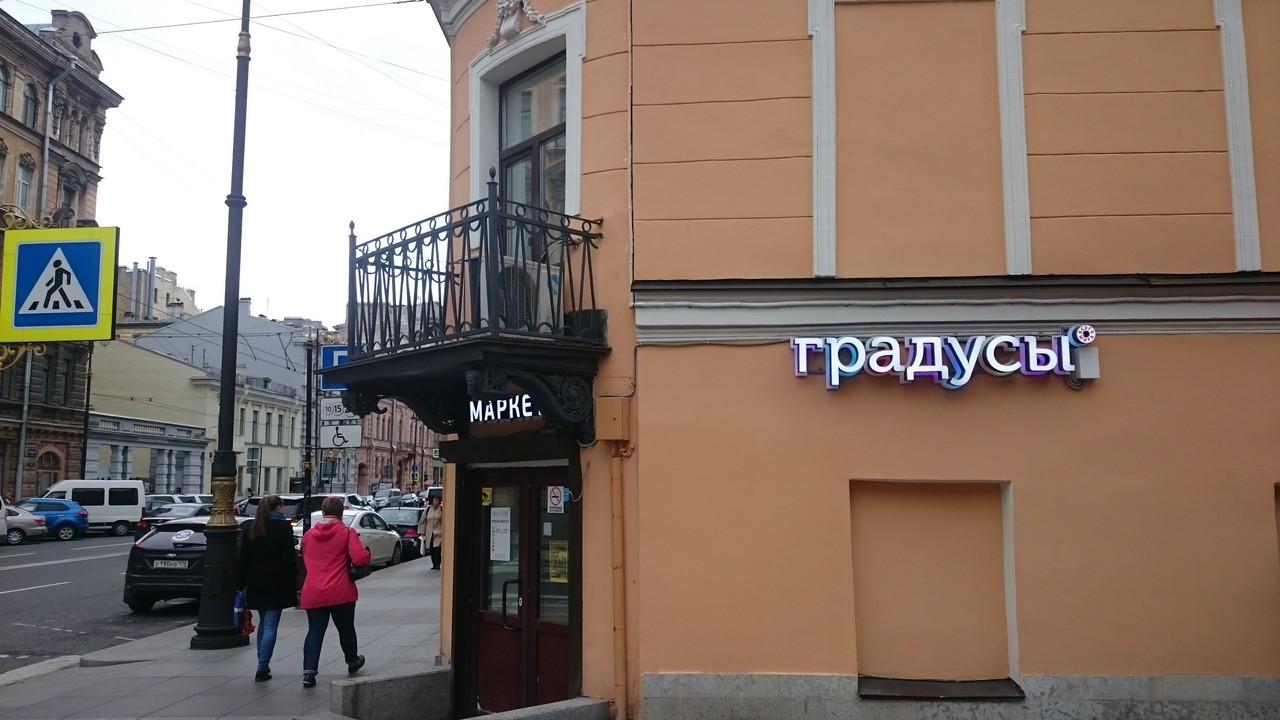signboard: (791, 323, 1099, 390)
